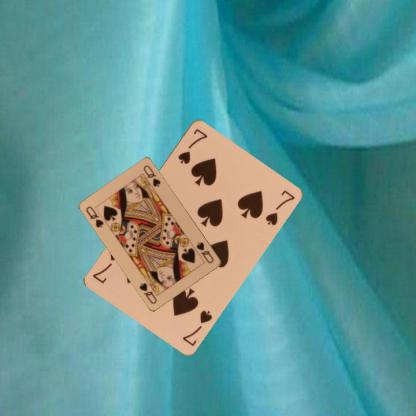7s: (175, 126, 209, 166), (180, 307, 214, 347)
Qs: (194, 239, 215, 265), (84, 204, 105, 230)
